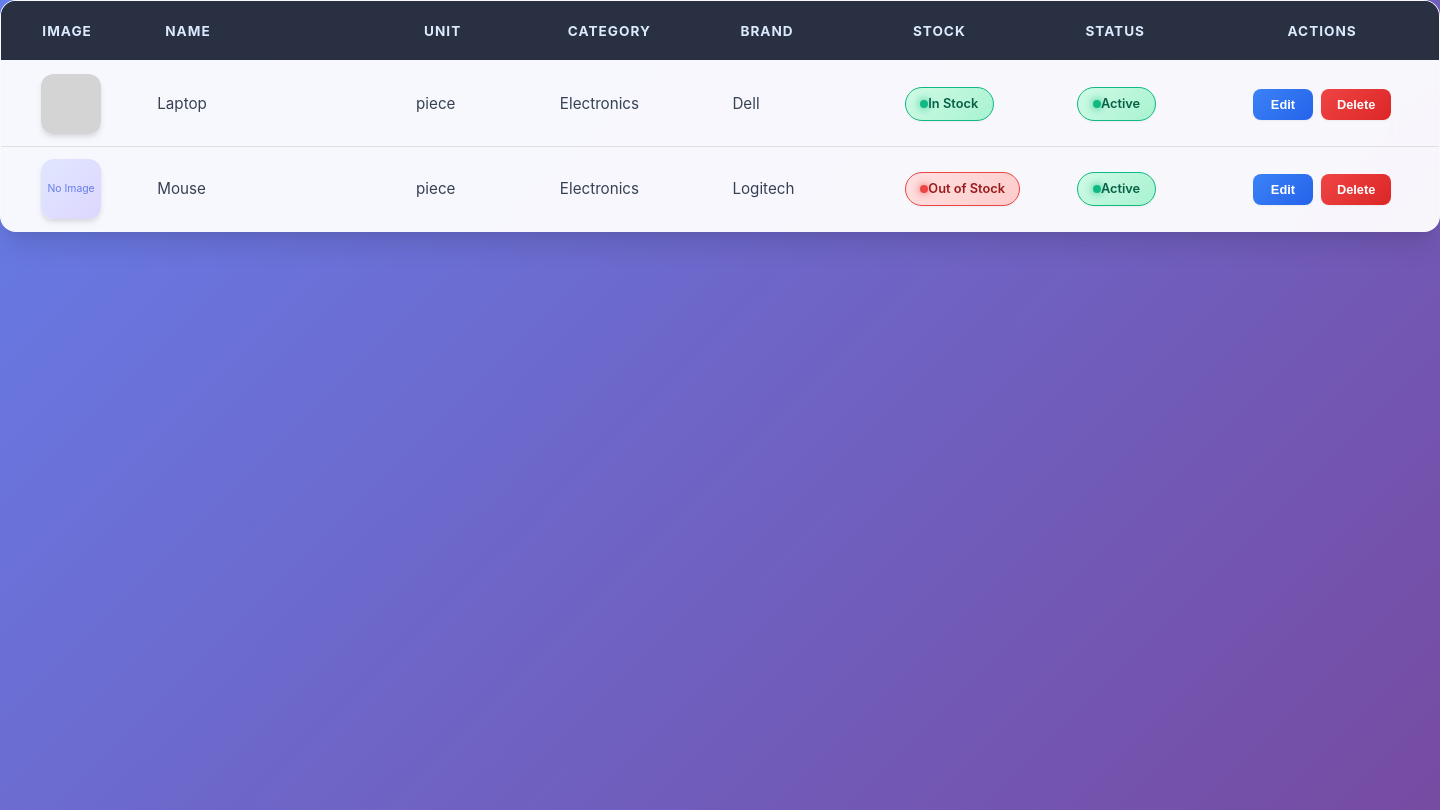
Scenario: ProductTable Component › shows edit mode when edit button is clicked
Click the button "Edit" in the row of "Laptop" at {"x": 1283, "y": 104}, box top-left (1253, 88), bottom-right (1313, 120)
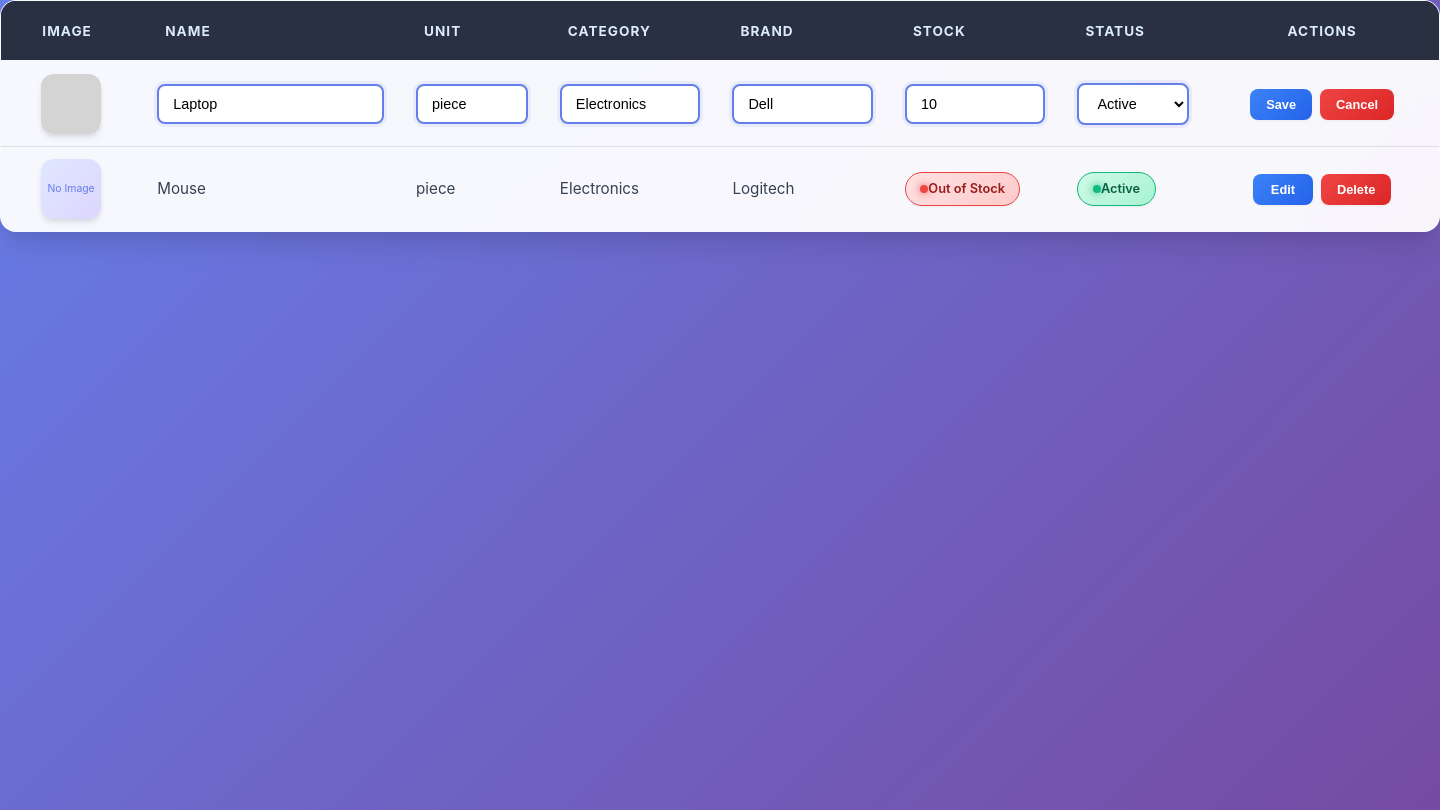
Expected: the button "Save" is shown, top-left (1250, 88), bottom-right (1312, 120)
Expected: the button "Cancel" is shown, top-left (1320, 88), bottom-right (1394, 120)
